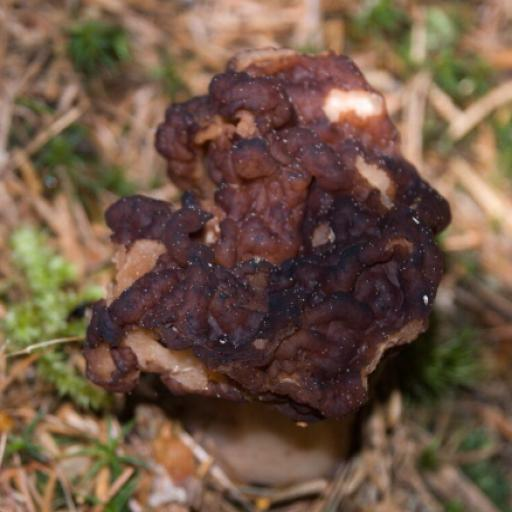mushroom: (97, 41, 449, 420)
